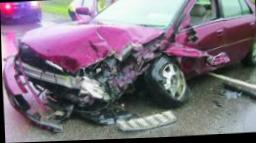Bonnet: (21, 20, 163, 72)
Bumper: (4, 54, 132, 128)
Door: (178, 0, 230, 68)
Fender: (120, 38, 175, 79)
Light: (82, 58, 125, 85)
